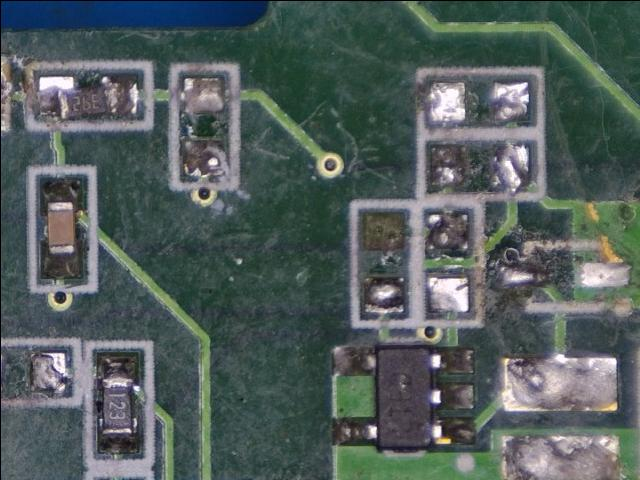Incorrect_installation: (38, 76, 138, 121)
